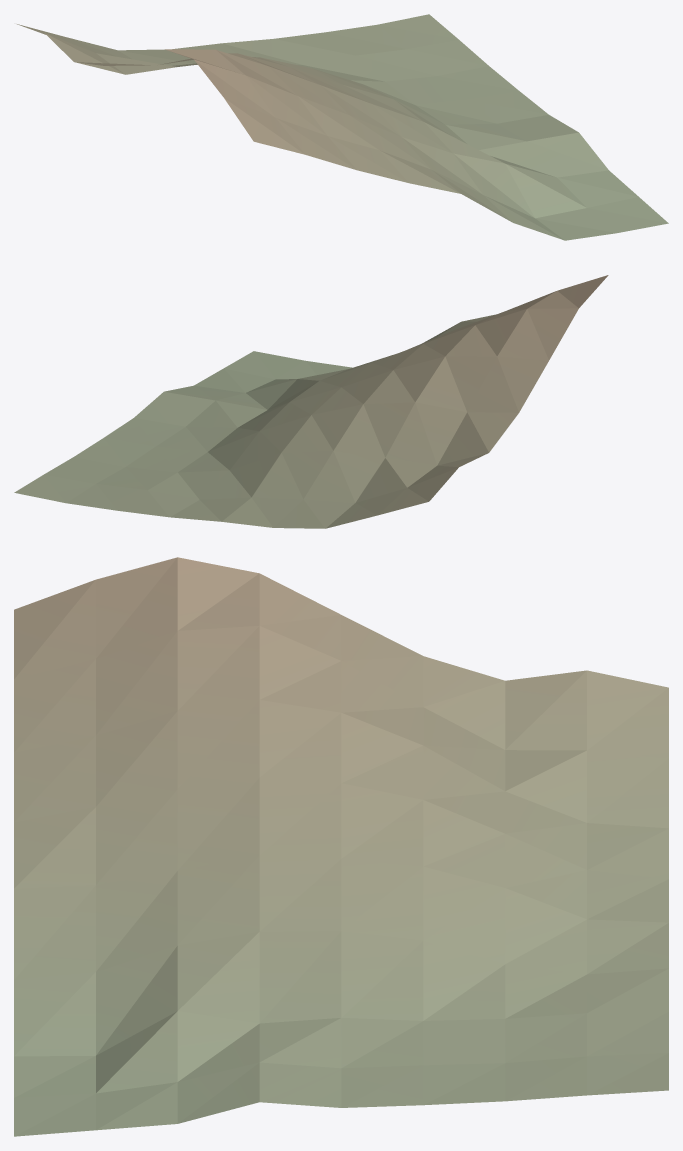
The model's file is tile_7_-52_lod1.gltf.
3 views of the same model, one above another, from view 1: azimuth 30°, elevation 25°; view 2: azimuth 150°, elevation 25°; view 3: azimuth 270°, elevation 25° (orthographic). The views are drawn at different scales.
Parts seen in each view (by area): view 1: Terrain_col; view 2: Terrain_col; view 3: Terrain_col.
Boxes of the visible parts, x1,y1,x2,y2 form: Terrain_col: (17, 14, 668, 240); Terrain_col: (14, 275, 608, 528); Terrain_col: (14, 557, 668, 1136).
Bounding box in the file's own units: 256 × 130 × 256.
